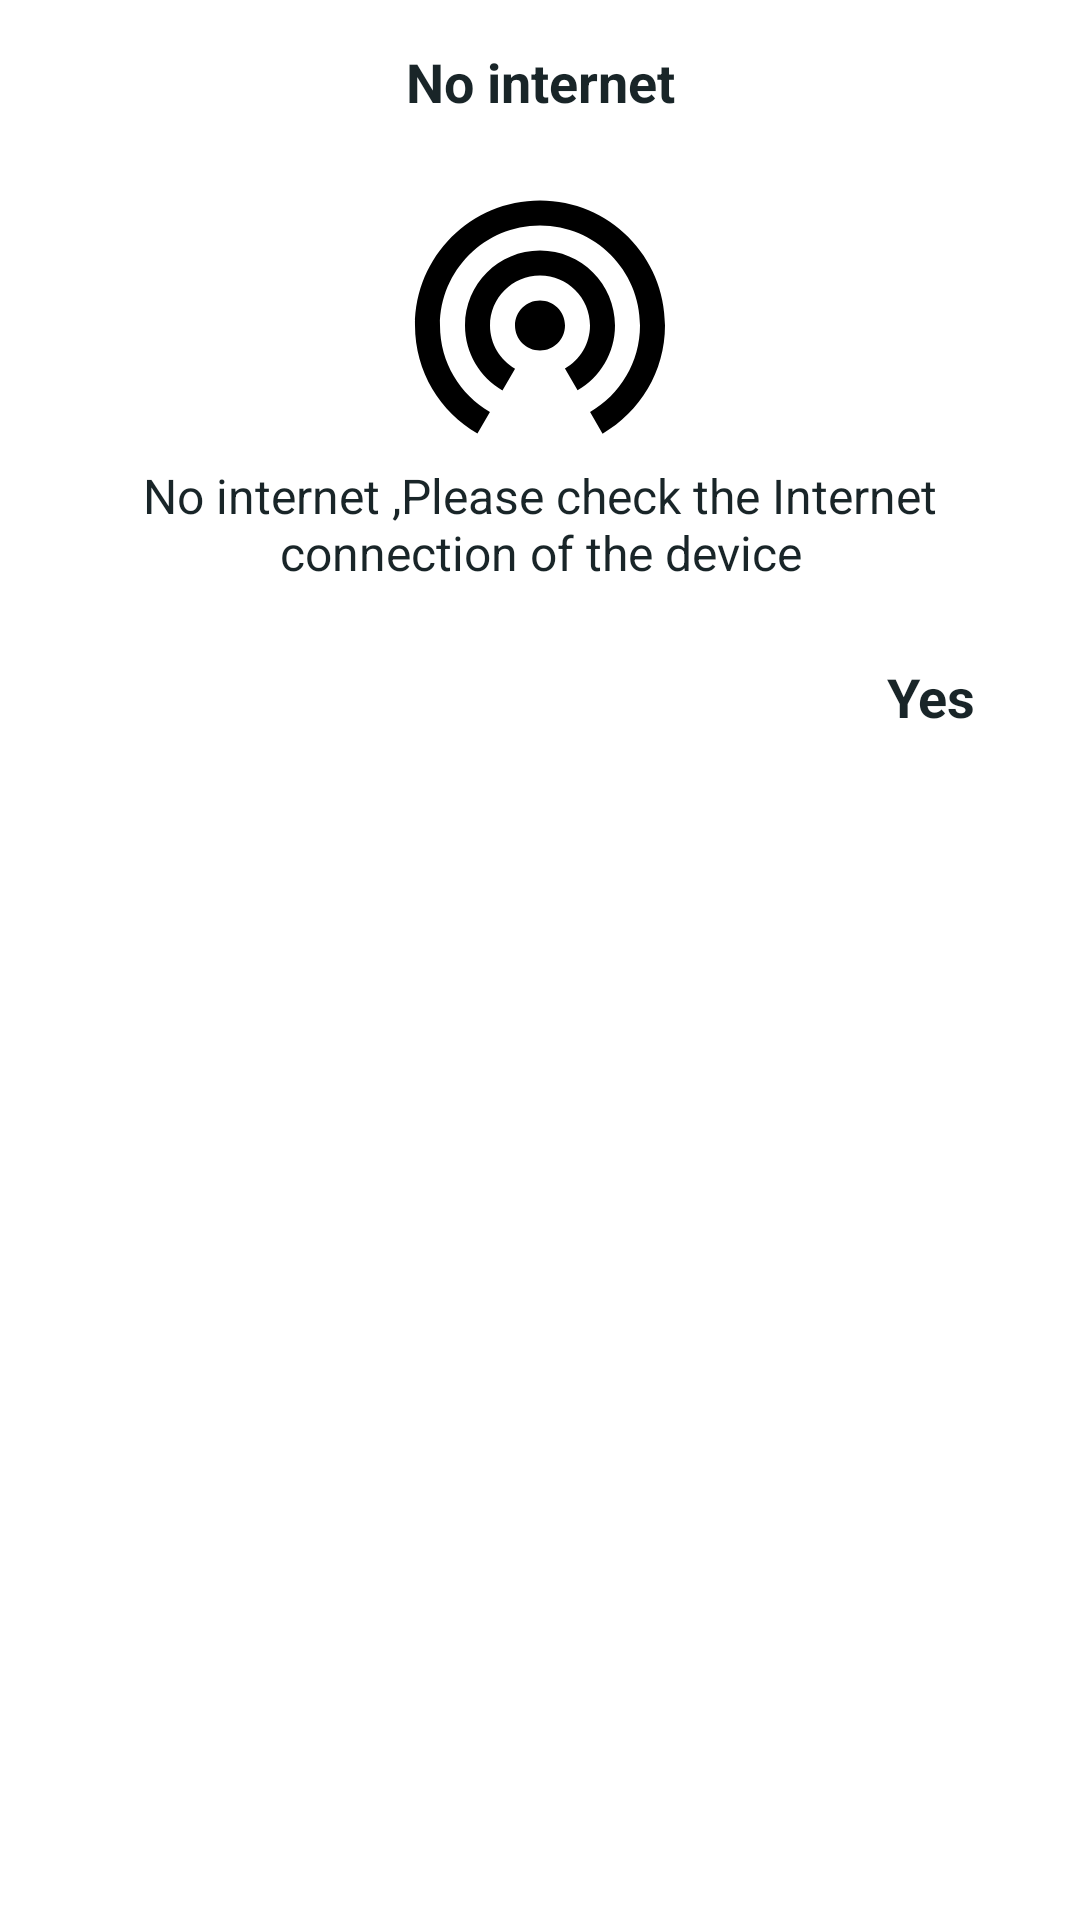

Icon click points for this 1080x1920 phone screenshot, format point (x, y):
iconfinder wifi tethering: point (540, 317)
